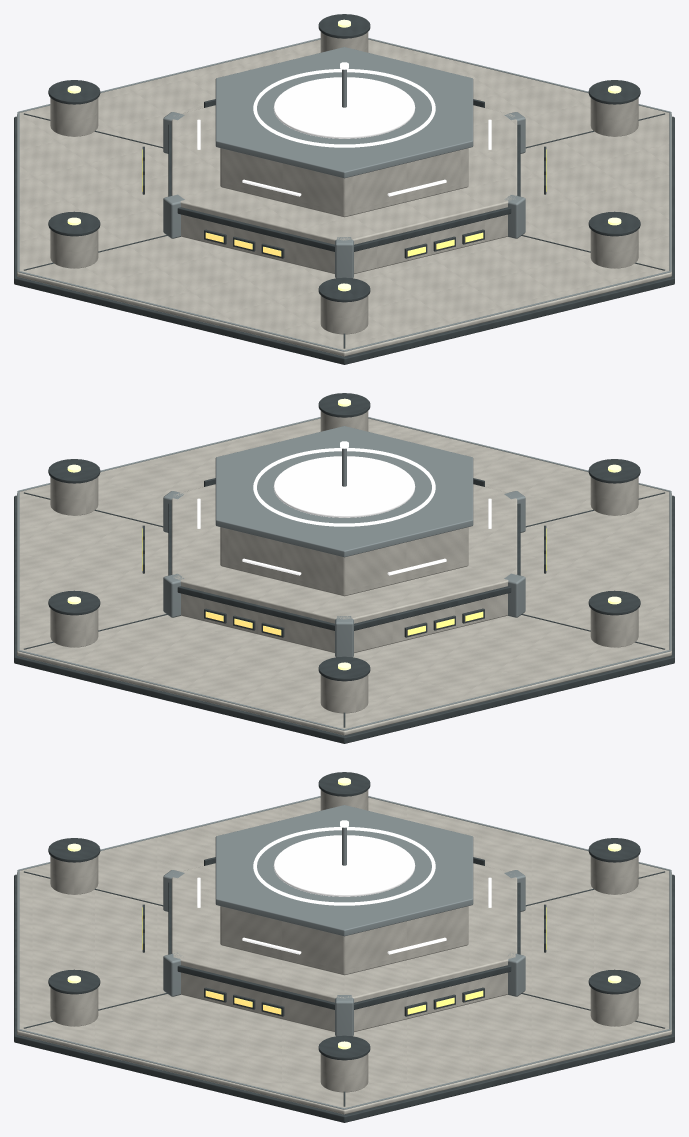
Rendered from crown-bastion.9ce974411e91.glb.
3 renders of one model, top to bottom at view 1: azimuth 30°, elevation 25°; view 2: azimuth 150°, elevation 25°; view 3: azimuth 270°, elevation 25°, orthographic.
Parts seen in each view (by area): view 1: MF_Roof__structure_ivory_ceramic, MF_Roof_Crown__structure_ivory_ceramic, MF_Roof_Crown__brushed_titanium, MF_Roof__structure_graphite_joints, MF_Roof_Crown__identity_roof_inset, MF_Roof_Crown__structure_graphite_joints, MF_Roof__brushed_titanium, MF_Roof_Crown__identity_roof_ring, MF_Roof_Crown__practical_warm_window_glass, MF_Roof_Crown__identity_trim, MF_Roof__practical_station_marker; view 2: MF_Roof__structure_ivory_ceramic, MF_Roof_Crown__structure_ivory_ceramic, MF_Roof_Crown__brushed_titanium, MF_Roof__structure_graphite_joints, MF_Roof_Crown__identity_roof_inset, MF_Roof_Crown__structure_graphite_joints, MF_Roof__brushed_titanium, MF_Roof_Crown__identity_roof_ring, MF_Roof_Crown__practical_warm_window_glass, MF_Roof_Crown__identity_trim, MF_Roof__practical_station_marker; view 3: MF_Roof__structure_ivory_ceramic, MF_Roof_Crown__structure_ivory_ceramic, MF_Roof_Crown__brushed_titanium, MF_Roof__structure_graphite_joints, MF_Roof_Crown__identity_roof_inset, MF_Roof_Crown__structure_graphite_joints, MF_Roof__brushed_titanium, MF_Roof_Crown__identity_roof_ring, MF_Roof_Crown__practical_warm_window_glass, MF_Roof_Crown__identity_trim, MF_Roof__practical_station_marker.
Part boxes in pixels (x1,y1,x2,y2): MF_Roof__structure_ivory_ceramic: [17, 32, 671, 356]; MF_Roof_Crown__structure_ivory_ceramic: [171, 105, 517, 273]; MF_Roof_Crown__brushed_titanium: [163, 47, 525, 278]; MF_Roof__structure_graphite_joints: [14, 14, 674, 364]; MF_Roof_Crown__identity_roof_inset: [273, 77, 415, 138]; MF_Roof_Crown__structure_graphite_joints: [142, 99, 546, 258]; MF_Roof__brushed_titanium: [17, 38, 671, 351]; MF_Roof_Crown__identity_roof_ring: [253, 69, 435, 147]; MF_Roof_Crown__practical_warm_window_glass: [142, 149, 546, 256]; MF_Roof_Crown__identity_trim: [197, 119, 491, 196]; MF_Roof__practical_station_marker: [67, 19, 621, 291]; MF_Roof__structure_ivory_ceramic: [17, 411, 671, 735]; MF_Roof_Crown__structure_ivory_ceramic: [171, 484, 517, 652]; MF_Roof_Crown__brushed_titanium: [163, 426, 525, 657]; MF_Roof__structure_graphite_joints: [14, 393, 674, 743]; MF_Roof_Crown__identity_roof_inset: [273, 456, 415, 517]; MF_Roof_Crown__structure_graphite_joints: [142, 478, 546, 637]; MF_Roof__brushed_titanium: [17, 417, 671, 730]; MF_Roof_Crown__identity_roof_ring: [253, 448, 435, 526]; MF_Roof_Crown__practical_warm_window_glass: [142, 528, 546, 635]; MF_Roof_Crown__identity_trim: [197, 498, 491, 575]; MF_Roof__practical_station_marker: [67, 398, 621, 670]; MF_Roof__structure_ivory_ceramic: [17, 790, 671, 1114]; MF_Roof_Crown__structure_ivory_ceramic: [171, 863, 517, 1031]; MF_Roof_Crown__brushed_titanium: [163, 805, 525, 1036]; MF_Roof__structure_graphite_joints: [14, 772, 674, 1122]; MF_Roof_Crown__identity_roof_inset: [273, 835, 415, 896]; MF_Roof_Crown__structure_graphite_joints: [142, 857, 546, 1016]; MF_Roof__brushed_titanium: [17, 796, 671, 1109]; MF_Roof_Crown__identity_roof_ring: [253, 827, 435, 905]; MF_Roof_Crown__practical_warm_window_glass: [142, 907, 546, 1014]; MF_Roof_Crown__identity_trim: [197, 877, 491, 954]; MF_Roof__practical_station_marker: [67, 777, 621, 1049].
Bounding box in the file's own units: 36.67 × 7.43 × 31.78.
9 materials, 2 textured.
